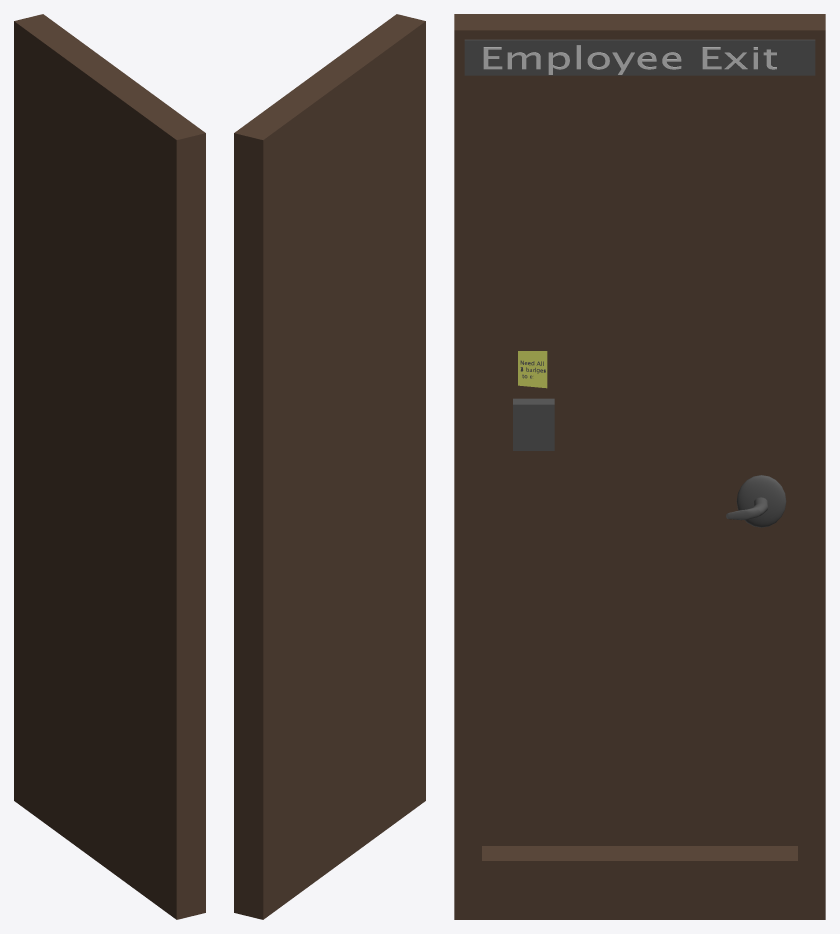
Rendered from Door.fbx.
3 views of the same model, side by side, from view 1: azimuth 30°, elevation 25°; view 2: azimuth 150°, elevation 25°; view 3: azimuth 270°, elevation 25° (orthographic). The views are drawn at different scales.
Parts seen in each view (by area): view 1: door:pCube4; view 2: door:pCube4; view 3: door:pCube4.
Boxes of the visible parts, x1=… form: door:pCube4: x1=14, y1=14, x2=205, y2=919; door:pCube4: x1=234, y1=14, x2=425, y2=919; door:pCube4: x1=454, y1=14, x2=825, y2=919.
Size of the model in its own units: 0.0496 by 1 by 0.3783.
